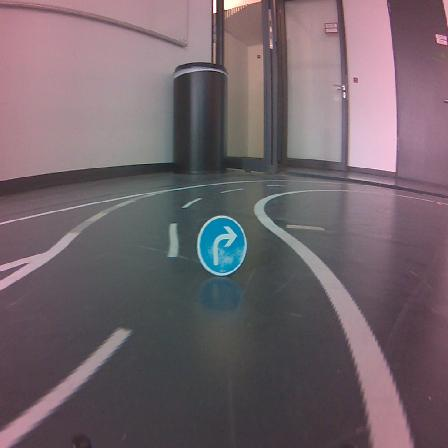RIGHT_TURN: (197, 216, 246, 275)
